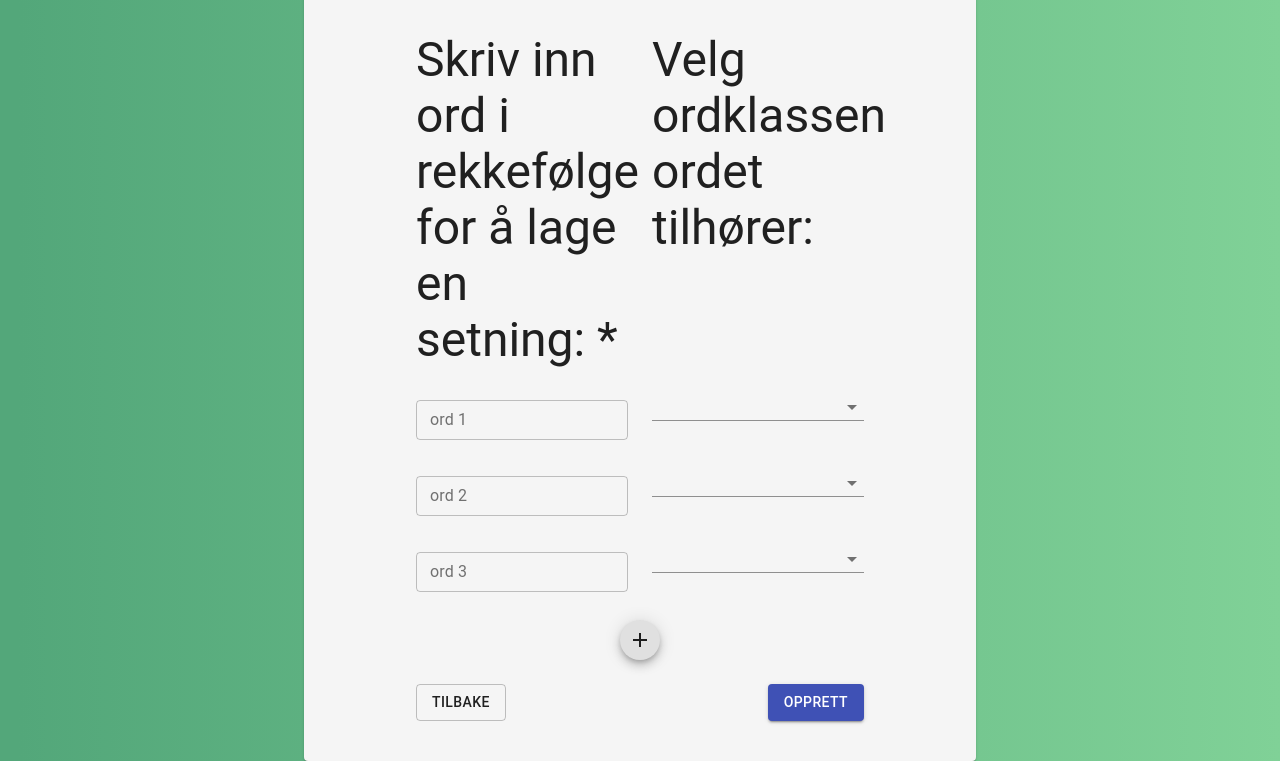
Test: CreateRyddeSetninger test › add word button
(page scrolled)
Click the button with test id "addButton": [640, 640] box [620, 620, 660, 660]
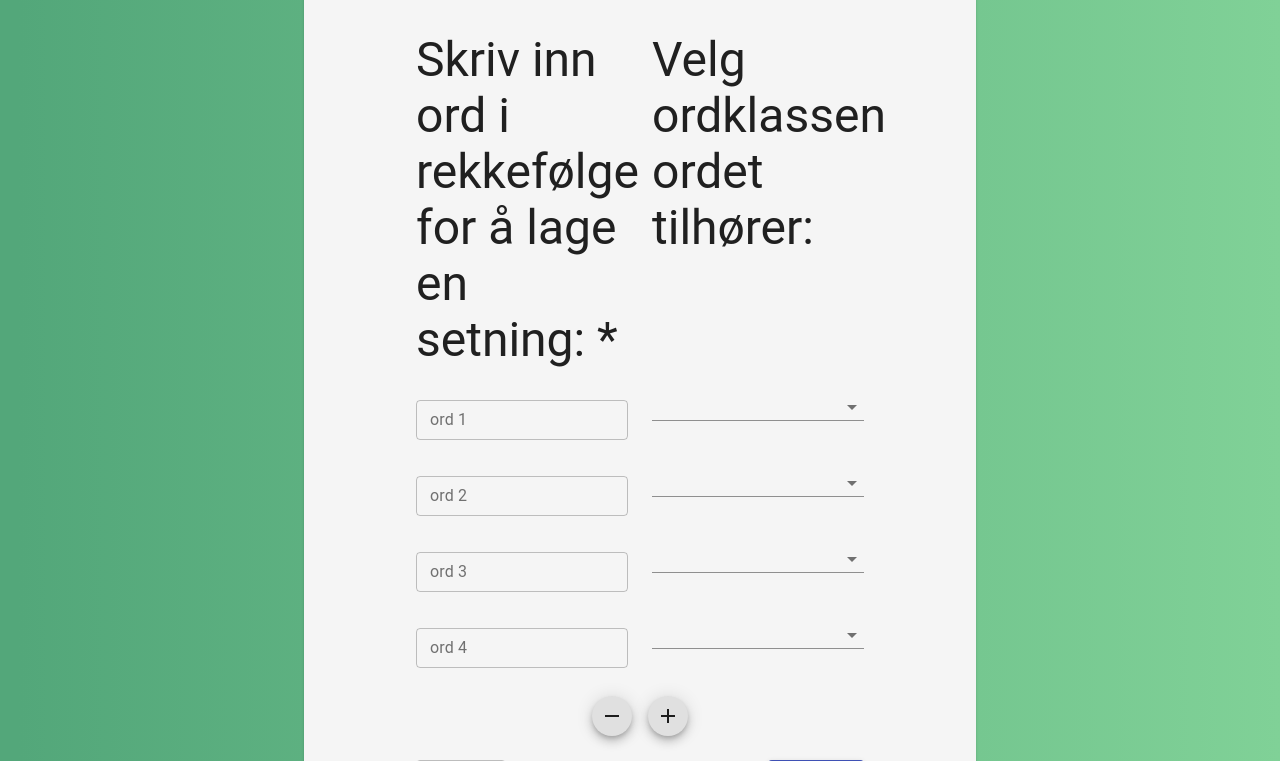
Click the button with test id "addButton": [668, 716] box [648, 696, 688, 736]
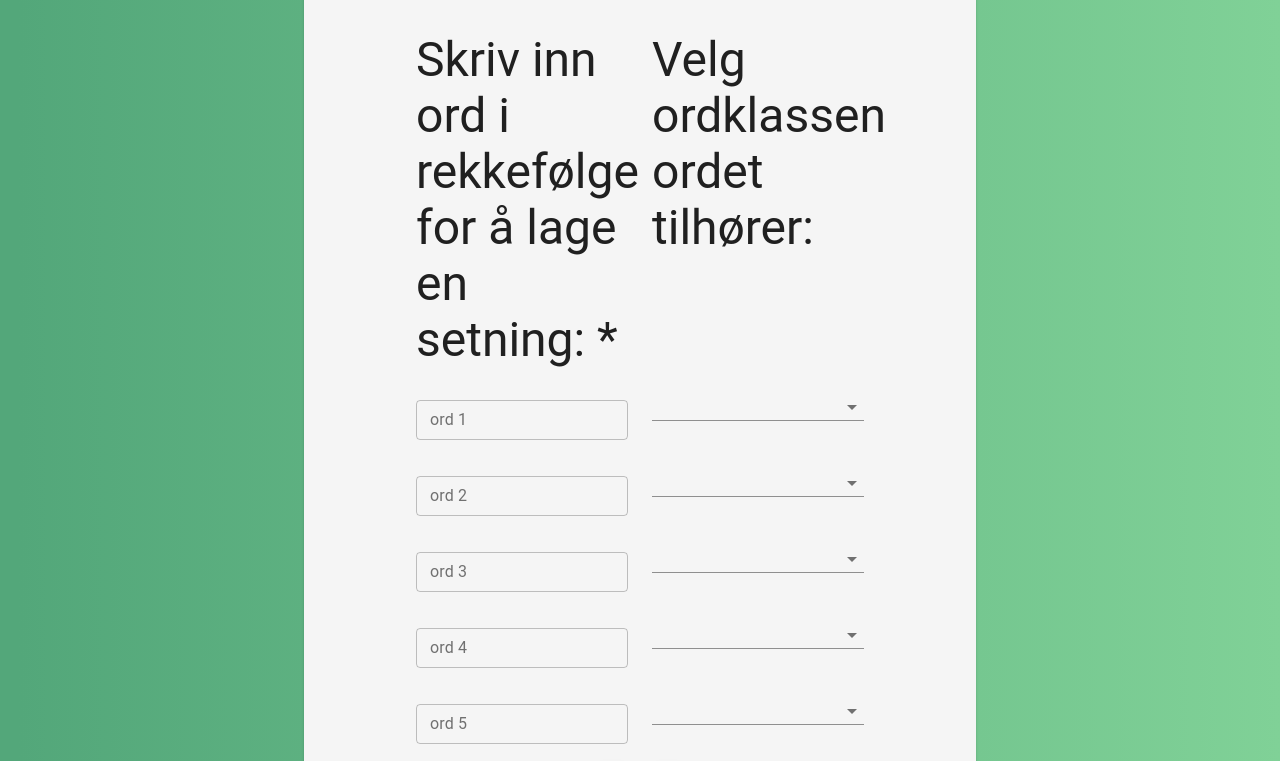
Expected: the element with test id "word5" is shown, [416, 704, 628, 744]
